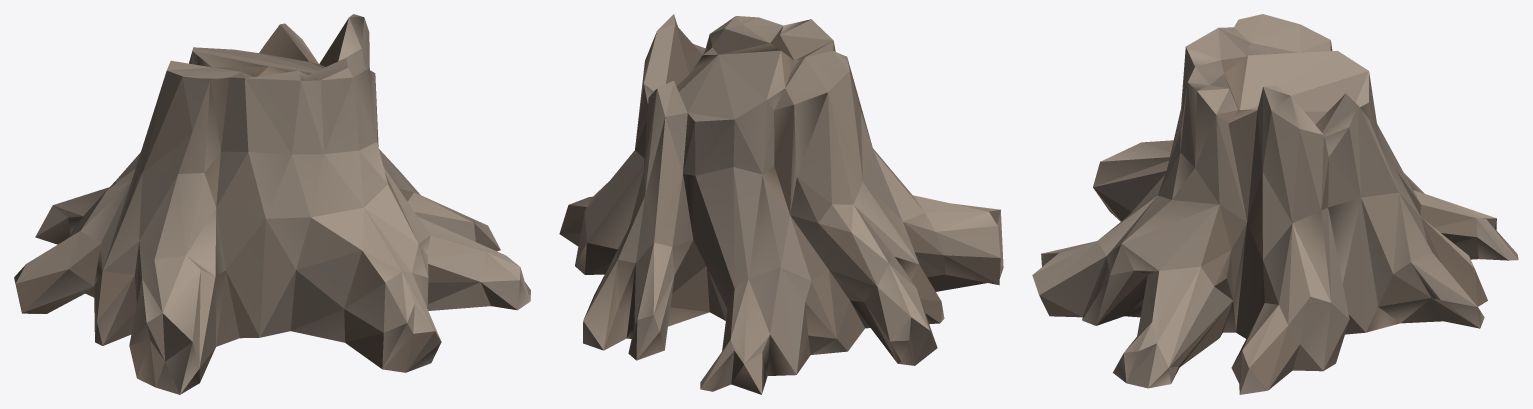
File: driftwood-stump.glb
3 views of the same model, side by side, from view 1: azimuth 30°, elevation 25°; view 2: azimuth 150°, elevation 25°; view 3: azimuth 270°, elevation 25° (orthographic). The views are drawn at different scales.
Parts seen in each view (by area): view 1: driftwood-stump; view 2: driftwood-stump; view 3: driftwood-stump.
Part boxes in pixels (<box>): driftwood-stump: <box>14,14,530,394</box>; driftwood-stump: <box>559,14,1003,394</box>; driftwood-stump: <box>1032,14,1518,394</box>.
Bounding box in the file's own units: 1.75 × 0.9969 × 1.74.
